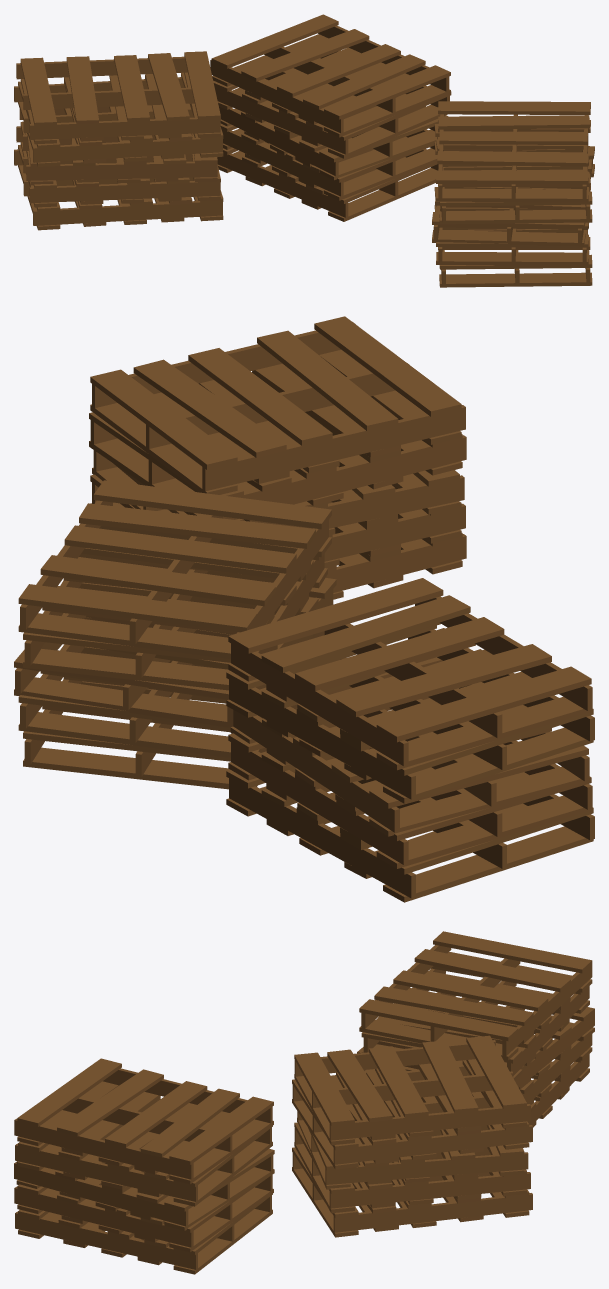
The model's file is Wooden_Plate-1_002.fbx.
3 renders of one model, top to bottom at view 1: azimuth 30°, elevation 25°; view 2: azimuth 150°, elevation 25°; view 3: azimuth 270°, elevation 25°, orthographic. The views are drawn at different scales.
Visible parts, largest first — view 1: Wooden Plate-3; view 2: Wooden Plate-3; view 3: Wooden Plate-3.
Boxes of the visible parts, x1=… form: Wooden Plate-3: x1=14, y1=14, x2=594, y2=287; Wooden Plate-3: x1=14, y1=316, x2=594, y2=902; Wooden Plate-3: x1=14, y1=931, x2=594, y2=1274.
Bounding box in the file's own units: 4.37 × 0.9981 × 4.61.
